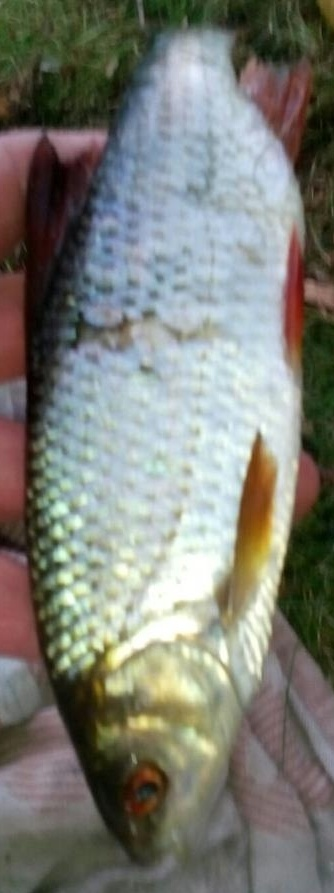Rutilus rutilus: (20, 20, 314, 873)
